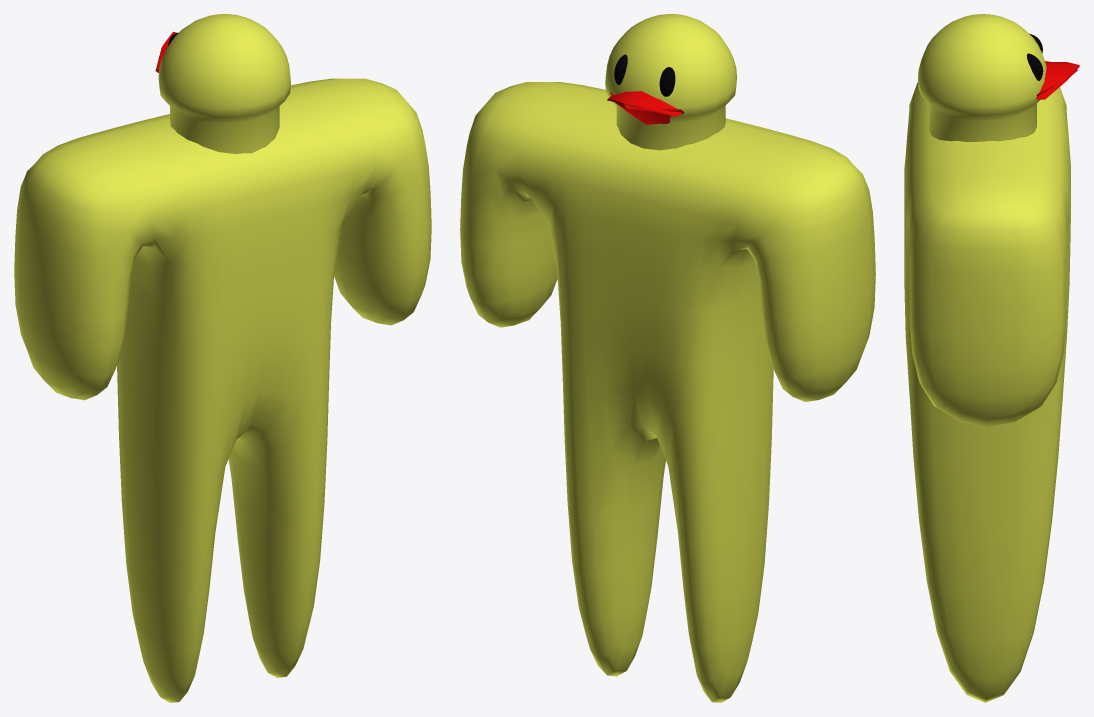
File: Duckman_With_Skeleton.fbx
3 views of the same model, side by side, from view 1: azimuth 30°, elevation 25°; view 2: azimuth 150°, elevation 25°; view 3: azimuth 270°, elevation 25° (orthographic). The views are drawn at different scales.
Parts seen in each view (by area): view 1: pCube1, pSphere2; view 2: pCube1, pSphere2, pDisc2; view 3: pCube1, pSphere2, pDisc2.
Part boxes in pixels (x1,y1,x2,y2): pCube1: [14, 78, 431, 702]; pSphere2: [158, 14, 290, 153]; pCube1: [460, 82, 875, 702]; pSphere2: [605, 14, 736, 150]; pDisc2: [607, 91, 683, 116]; pCube1: [904, 82, 1070, 702]; pSphere2: [918, 14, 1046, 141]; pDisc2: [1036, 62, 1079, 99].
Size of the model in its own units: 3.86 by 6.52 by 1.57.
